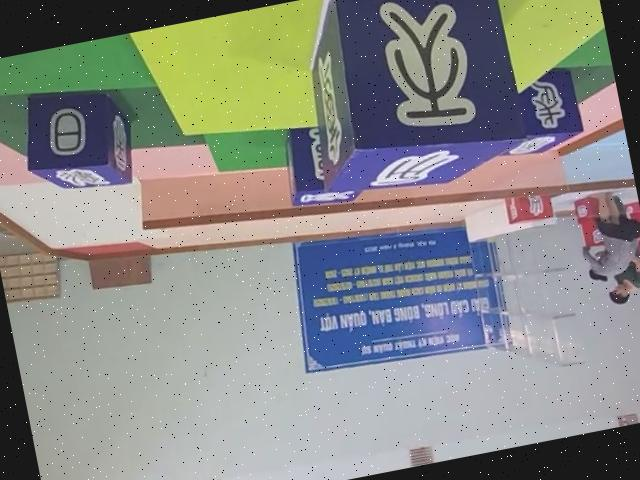R2 Fake Blue: (288, 0, 534, 205), (15, 76, 141, 202), (480, 63, 586, 162)
R2 Real Blue: (0, 58, 11, 142)
